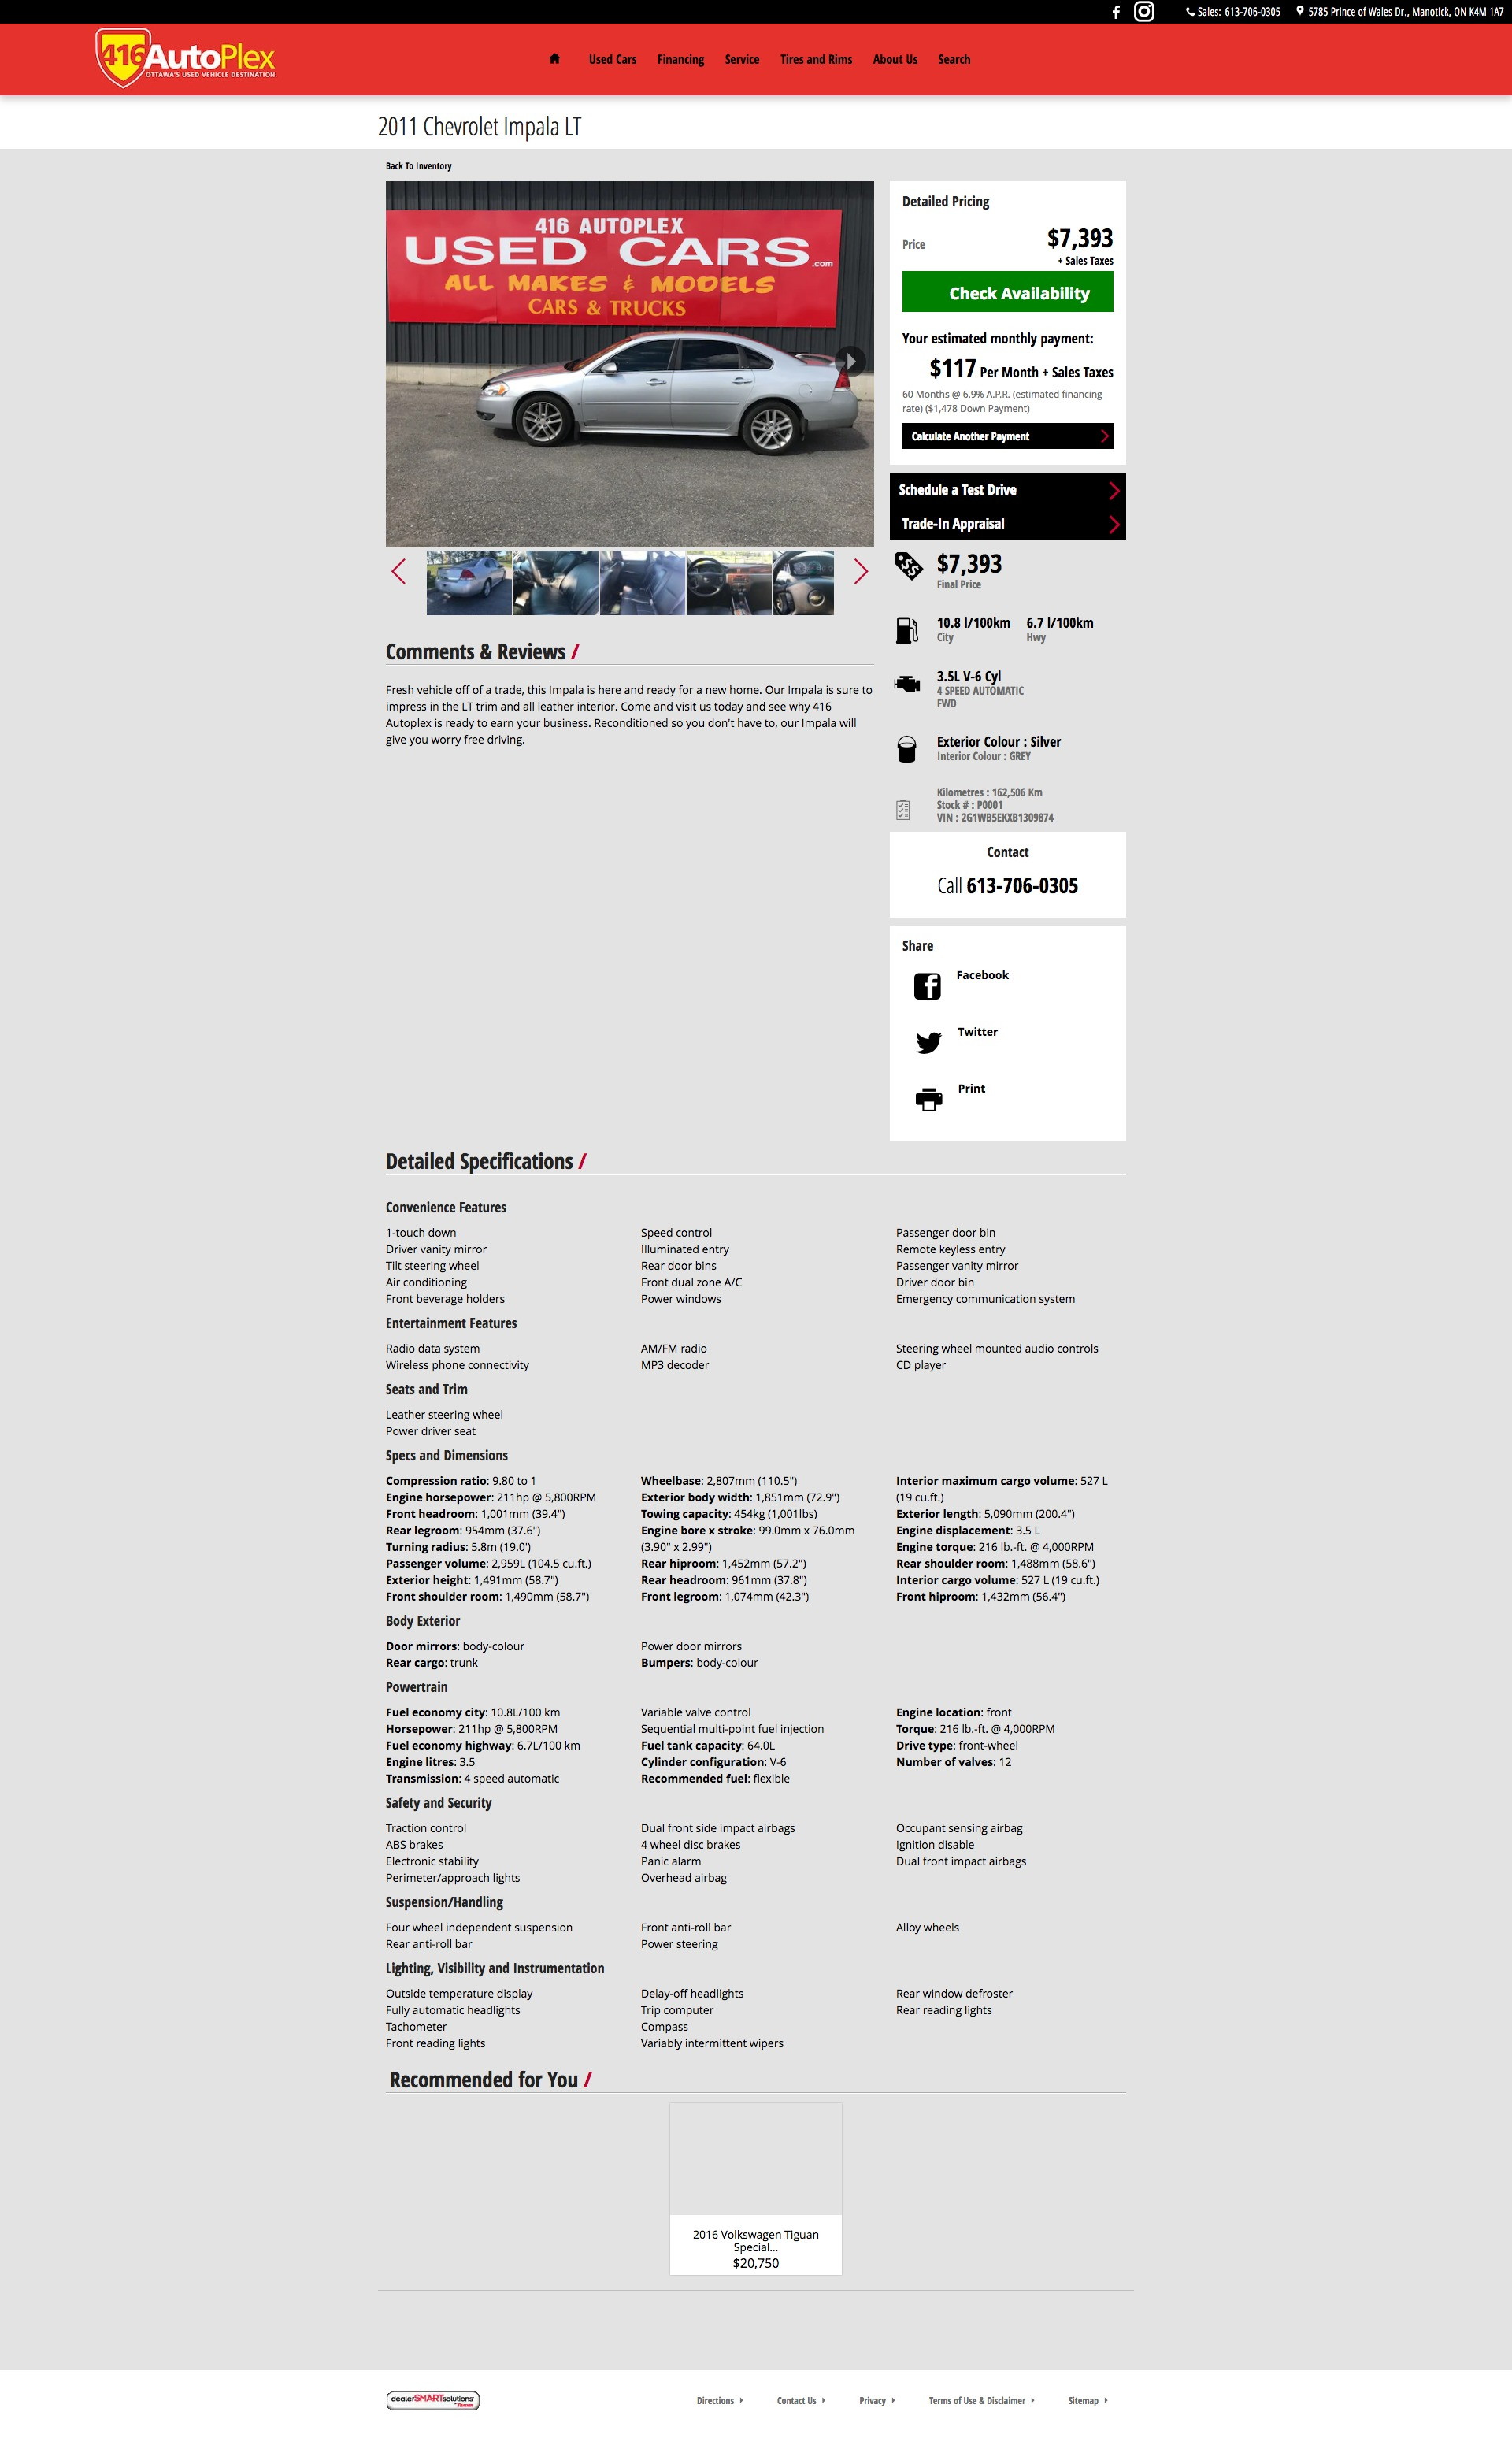car: (855, 560, 869, 586)
